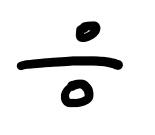div: (17, 21, 124, 107)
